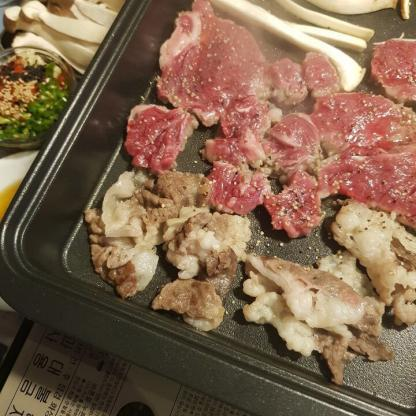beef: (266, 69, 416, 214), (109, 168, 239, 331), (163, 22, 284, 131)
